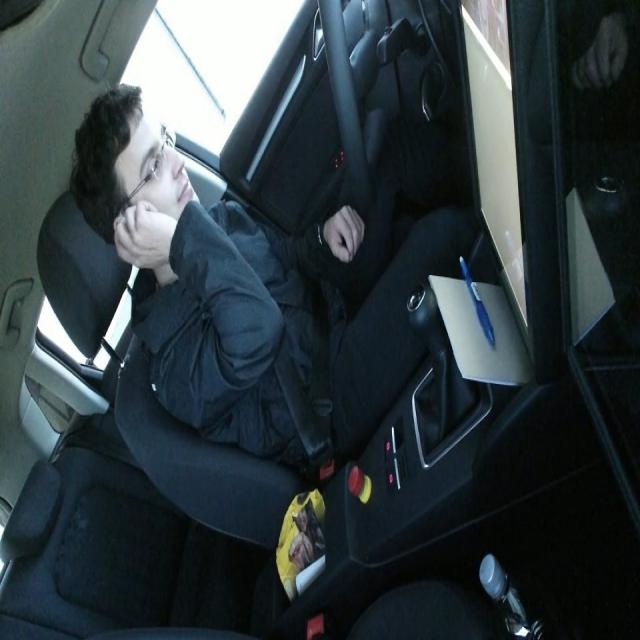pen: (458, 254, 495, 347)
